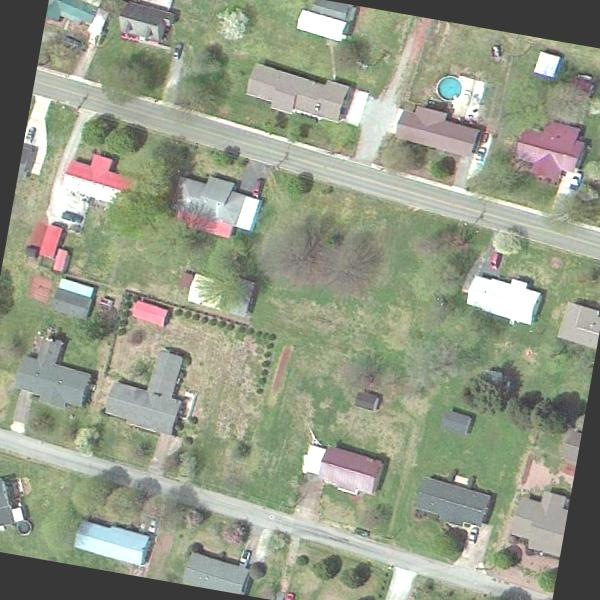Buildings: (239, 58, 355, 128), (106, 352, 188, 439), (510, 116, 596, 193), (10, 335, 89, 407), (297, 437, 385, 493), (393, 100, 482, 154), (62, 517, 152, 569), (504, 494, 568, 558), (166, 550, 255, 596), (174, 180, 256, 229), (413, 482, 489, 523), (118, 0, 180, 48), (42, 0, 104, 43), (473, 274, 533, 318), (69, 151, 132, 192), (559, 306, 600, 337)
